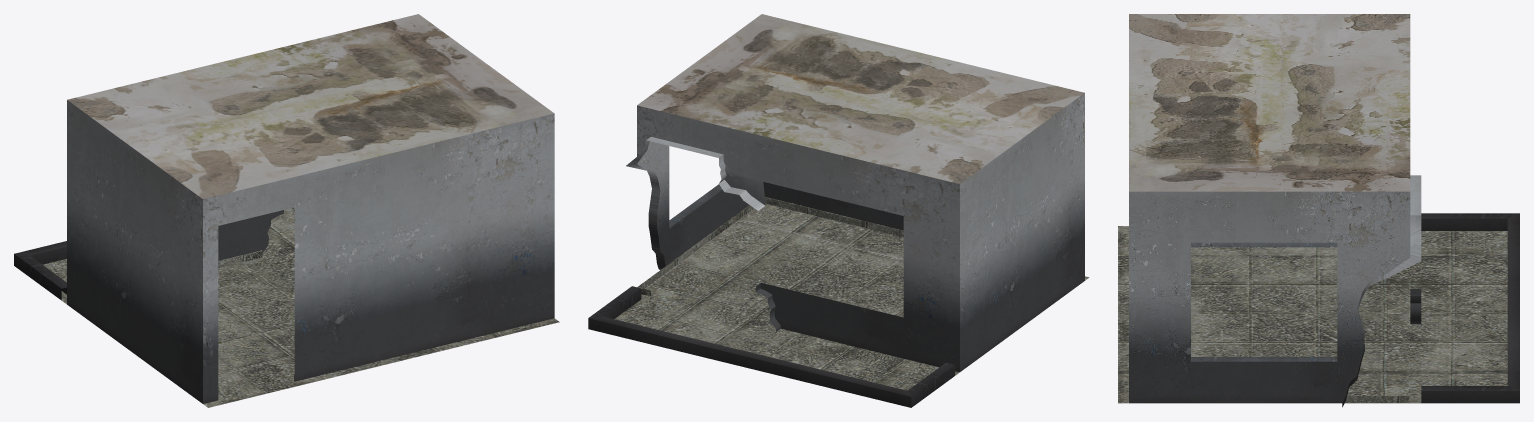
Rendered from A1_H1_R1_WFC.FBX.
3 views of the same model, side by side, from view 1: azimuth 30°, elevation 25°; view 2: azimuth 150°, elevation 25°; view 3: azimuth 270°, elevation 25° (orthographic). The views are drawn at different scales.
Visible parts, largest first — view 1: A1_H1_R1_Walls, A1_H1_R1_Ceiling, A1_H1_R1_Floor; view 2: A1_H1_R1_Walls, A1_H1_R1_Ceiling, A1_H1_R1_Floor; view 3: A1_H1_R1_Ceiling, A1_H1_R1_Walls, A1_H1_R1_Floor.
Part boxes in pixels (x1,y1,x2,y2): A1_H1_R1_Walls: (14, 100, 554, 403); A1_H1_R1_Ceiling: (67, 14, 554, 199); A1_H1_R1_Floor: (43, 207, 559, 407); A1_H1_R1_Walls: (588, 93, 1084, 407); A1_H1_R1_Ceiling: (637, 14, 1084, 183); A1_H1_R1_Floor: (614, 197, 1089, 390); A1_H1_R1_Ceiling: (1129, 14, 1410, 191); A1_H1_R1_Walls: (1129, 175, 1519, 407); A1_H1_R1_Floor: (1118, 226, 1507, 403).
Size of the model in its own units: 590 by 320 by 550.
